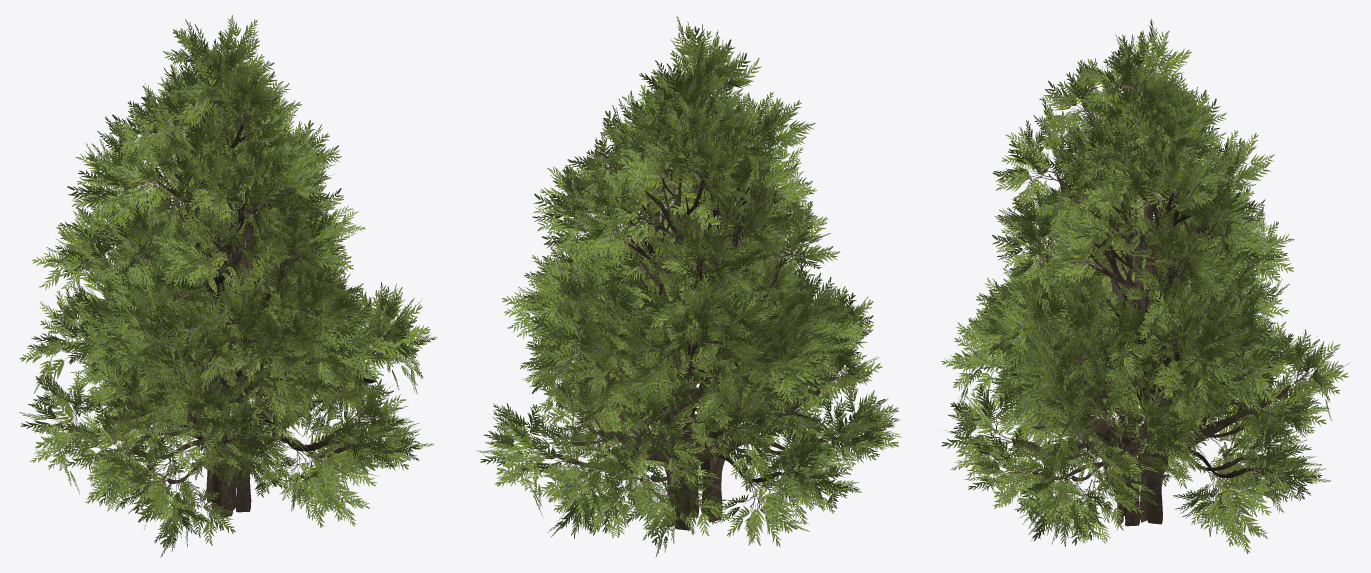
File: tree2.glb
The picture shows the model from 3 angles, left to right: view 1: azimuth 30°, elevation 25°; view 2: azimuth 150°, elevation 25°; view 3: azimuth 270°, elevation 25°; orthographic projection. The views are drawn at different scales.
Parts seen in each view (by area): view 1: tree_c_part1, tree_a_part1, tree_b_part1, tree_a_part0, tree_b_part0, tree_c_part0; view 2: tree_c_part1, tree_a_part1, tree_b_part1, tree_c_part0, tree_a_part0, tree_b_part0; view 3: tree_c_part1, tree_b_part1, tree_a_part1, tree_c_part0, tree_b_part0, tree_a_part0.
Boxes of the visible parts, left/top/right/bottom form: tree_c_part1: left=19, top=15, right=437, bottom=527; tree_a_part1: left=19, top=50, right=413, bottom=557; tree_b_part1: left=59, top=31, right=434, bottom=528; tree_a_part0: left=86, top=91, right=342, bottom=516; tree_b_part0: left=132, top=105, right=370, bottom=512; tree_c_part0: left=96, top=56, right=377, bottom=502; tree_c_part1: left=477, top=16, right=882, bottom=546; tree_a_part1: left=525, top=51, right=901, bottom=557; tree_b_part1: left=503, top=50, right=898, bottom=538; tree_c_part0: left=557, top=65, right=821, bottom=530; tree_a_part0: left=631, top=157, right=829, bottom=522; tree_b_part0: left=590, top=92, right=839, bottom=517; tree_c_part1: left=941, top=19, right=1348, bottom=554; tree_b_part1: left=958, top=51, right=1322, bottom=546; tree_a_part1: left=941, top=59, right=1329, bottom=545; tree_c_part0: left=1016, top=67, right=1289, bottom=524; tree_b_part0: left=1033, top=91, right=1257, bottom=526; tree_a_part0: left=1009, top=102, right=1244, bottom=515.
Bounding box in the file's own units: 14.23 × 18.32 × 14.27.
2 materials, 2 textured.
